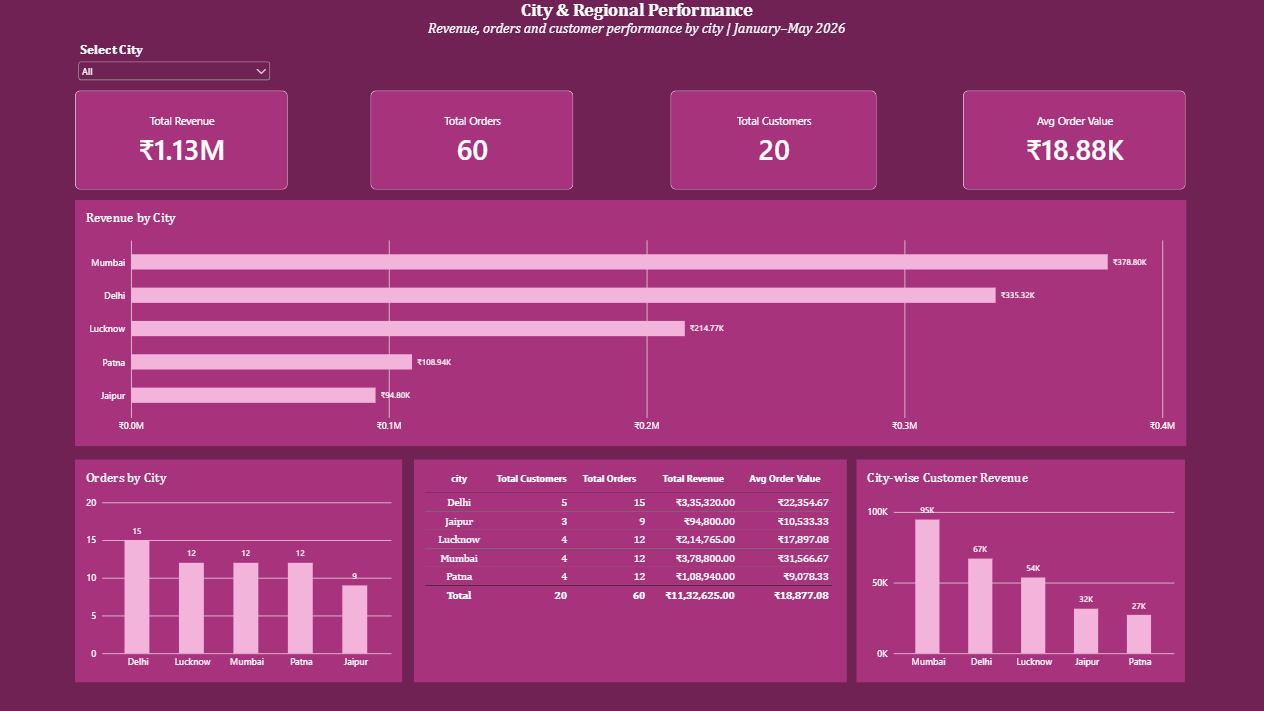

The dashboard page shown, as its layout file describes it:
{"tool":"powerbi","page":{"name":"City Analysis","canvas":[1920,1080],"ordinal":3},"visuals":[{"type":"textbox","box":[10,0,1910,62],"z":0},{"type":"cardVisual","fields":{"Data":["sales.Total Revenue"]},"box":[112.5,137.5,322.5,150],"z":1000},{"type":"cardVisual","fields":{"Data":["sales.Total Orders"]},"box":[560,137.5,307.5,150],"z":2000},{"type":"cardVisual","fields":{"Data":["sales.Total Customers"]},"box":[1015,137.5,312.5,150],"z":3000},{"type":"cardVisual","fields":{"Data":["sales.Avg Order Value"]},"box":[1457.5,137.5,337.5,150],"z":4000},{"type":"clusteredBarChart","title":"Revenue by City","fields":{"Category":["customers.city"],"Y":["sales.Total Revenue"]},"box":[112.5,305,1682.5,372.5],"z":5000},{"type":"clusteredColumnChart","title":"Orders by City","fields":{"Category":["customers.city"],"Y":["sales.Total Orders"]},"box":[112.5,697.5,495,337.5],"z":6000},{"type":"tableEx","fields":{"Values":["customers.city","sales.Total Customers","sales.Total Orders","sales.Total Revenue","sales.Avg Order Value"]},"box":[627.5,697.5,655,337.5],"z":7000},{"type":"clusteredColumnChart","title":"City-wise Customer Revenue","fields":{"Category":["customers.city"],"Y":["sales.Avg Customer Revenue"]},"box":[1297.5,697.5,497.5,337.5],"z":8000},{"type":"slicer","fields":{"Values":["customers.city"]},"box":[112.5,62.5,300,65],"z":9000}]}

Visuals, with their boxes in screenshot pixels (x1, y1, x2, y2), scaled from the page's 1920x1080 canvas onto the 1264x711 screenshot:
textbox: 7/0/1263/41
cardVisual - sales.Total Revenue: 74/91/286/189
cardVisual - sales.Total Orders: 369/91/571/189
cardVisual - sales.Total Customers: 668/91/874/189
cardVisual - sales.Avg Order Value: 960/91/1182/189
"Revenue by City" clusteredBarChart: 74/201/1182/446
"Orders by City" clusteredColumnChart: 74/459/400/681
tableEx - customers.city x sales.Total Customers: 413/459/844/681
"City-wise Customer Revenue" clusteredColumnChart: 854/459/1182/681
slicer - customers.city: 74/41/272/84
